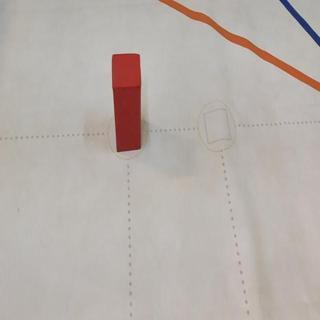redbox: (111, 51, 141, 154)
